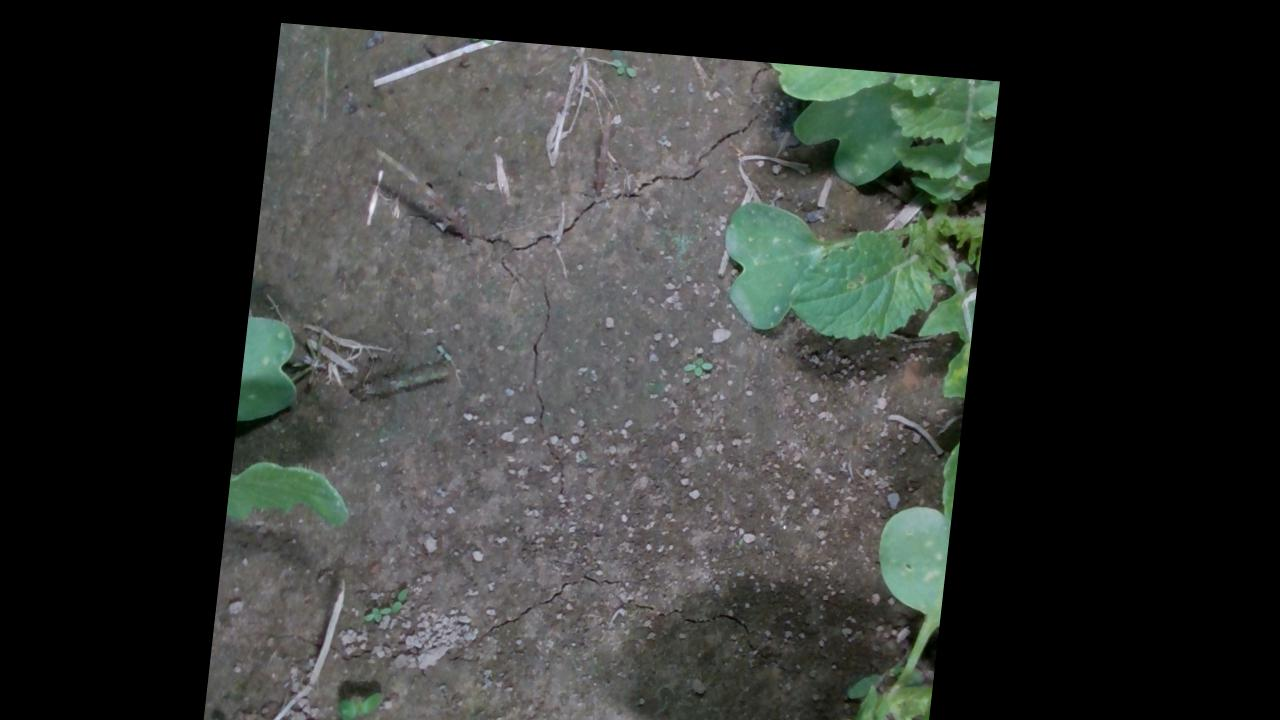weed: (689, 339, 723, 365), (612, 43, 641, 66), (376, 596, 406, 616), (406, 576, 423, 606), (470, 30, 499, 37)
